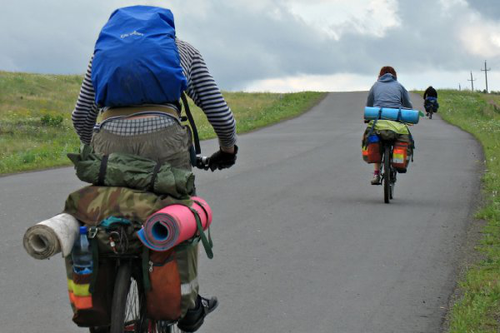bikerider: (40, 5, 217, 331), (350, 52, 410, 206), (420, 82, 441, 122)
